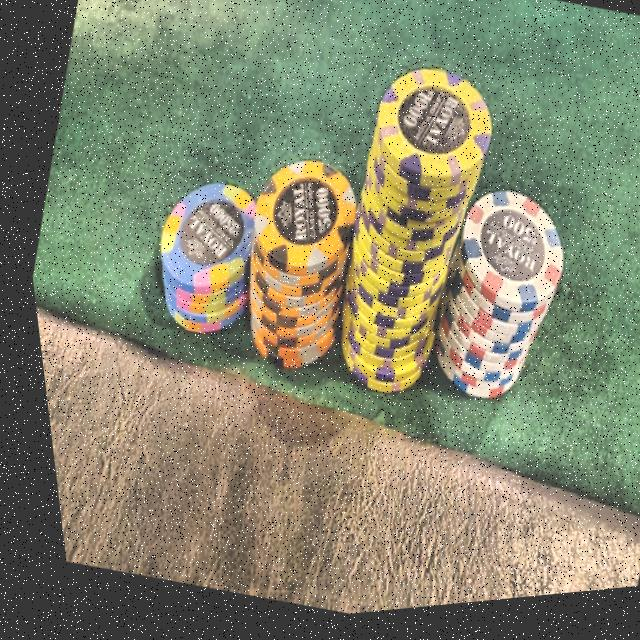Chip: (282, 50, 530, 433), (396, 163, 593, 435), (198, 139, 383, 396), (118, 157, 280, 354)
